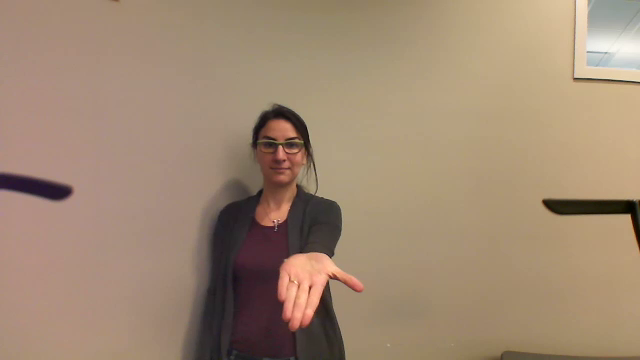land: (264, 242, 373, 329)
